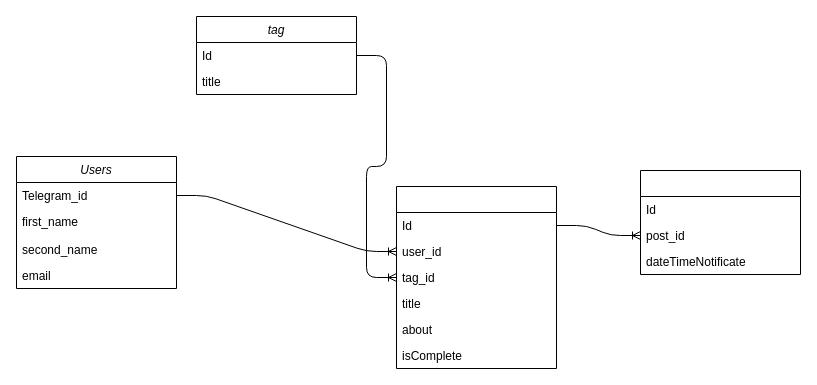
This 817x385 diagram has some shape labels left out. Each missing label, with the box of its shape:
notification: (640, 170, 800, 274)
post: (396, 186, 556, 368)
